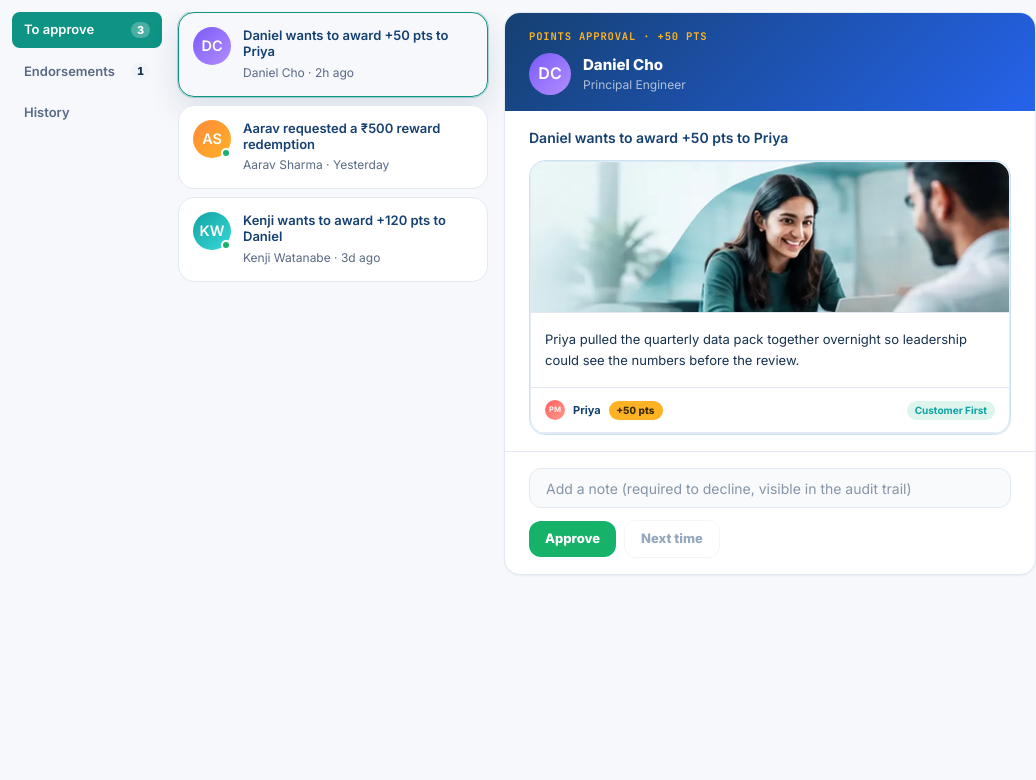
Test: ApprovalsBoard › history folder lists decided items and empty folders show empty copy
Click the button "Approve" at (573, 539), box [529,521,616,556]
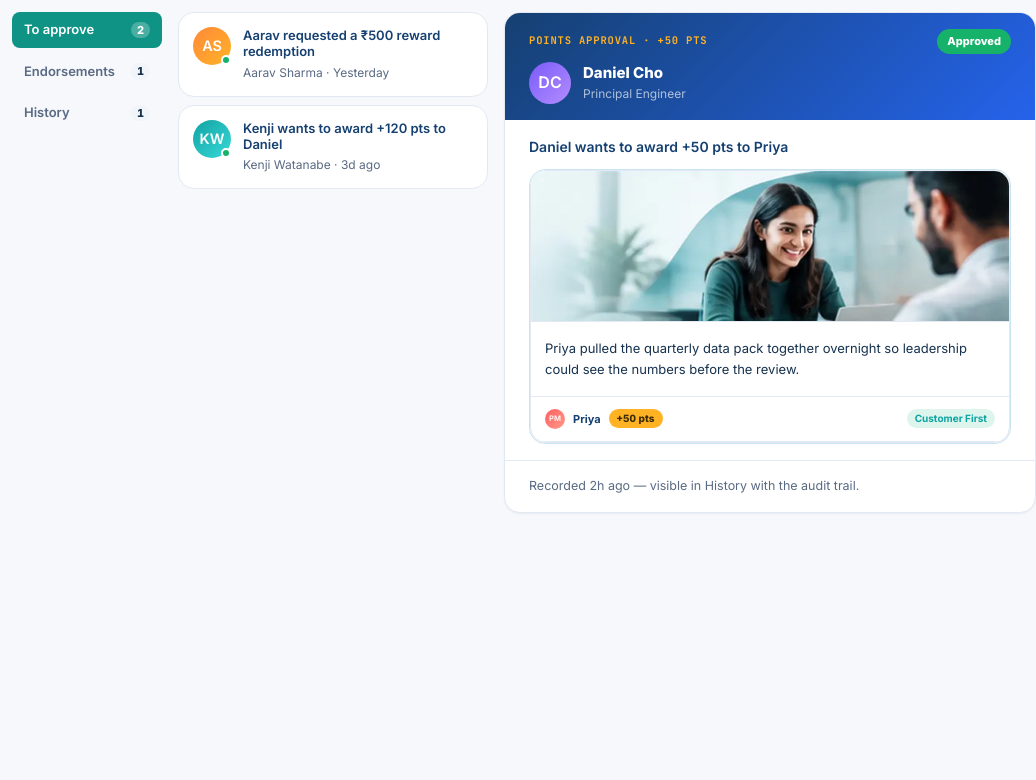
Click the button "History 1" at (87, 113), box [12,95,162,130]
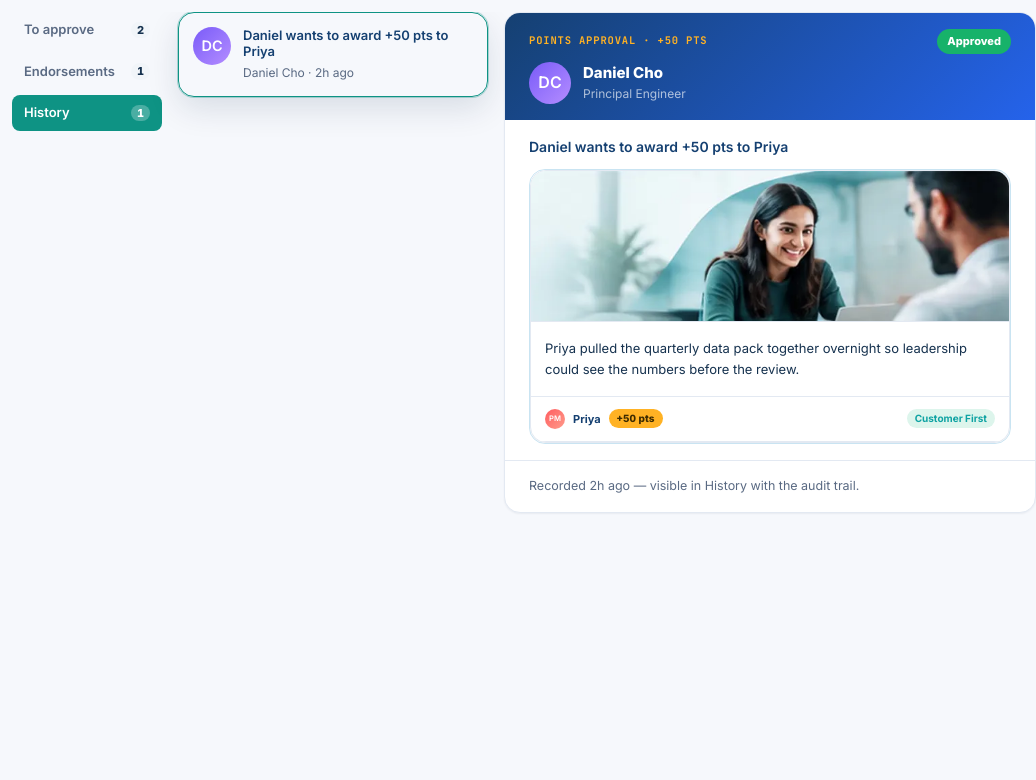
Expected: the text "Recorded 2h ago — visible in History with the audit trail." is shown, [529,478,859,493]
Expected: the 1st text "Daniel wants to award +50 pts to Priya" is shown, [243,27,473,60]
